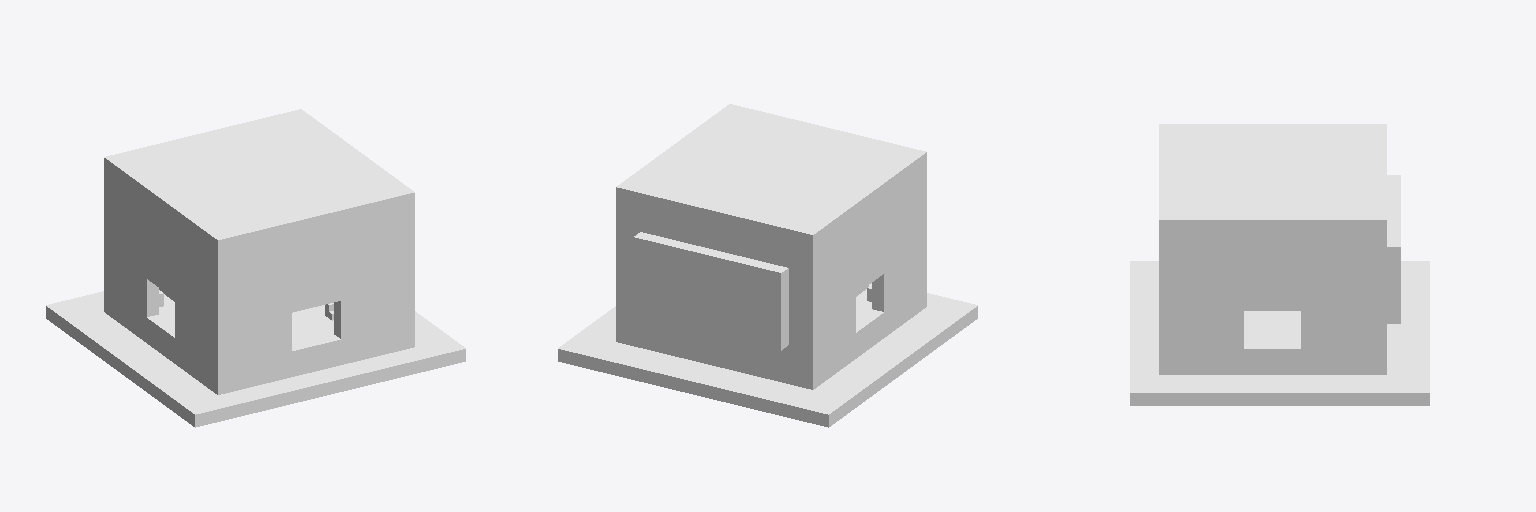
File: junction_box.obj
3 renders of one model, left to right at view 1: azimuth 30°, elevation 25°; view 2: azimuth 150°, elevation 25°; view 3: azimuth 270°, elevation 25°, orthographic.
Visible parts, largest first — view 1: Slon_VN_environments_(1_12)__1629_3_-1267_to_1650_255_-1247; view 2: Slon_VN_environments_(1_12)__1629_3_-1267_to_1650_255_-1247; view 3: Slon_VN_environments_(1_12)__1629_3_-1267_to_1650_255_-1247.
Boxes of the visible parts, box(x1,y1,x2,y2) form: Slon_VN_environments_(1_12)__1629_3_-1267_to_1650_255_-1247: box(46, 109, 465, 427); Slon_VN_environments_(1_12)__1629_3_-1267_to_1650_255_-1247: box(558, 104, 977, 427); Slon_VN_environments_(1_12)__1629_3_-1267_to_1650_255_-1247: box(1130, 124, 1429, 405).
Bounding box in the file's own units: 22 × 13 × 21.